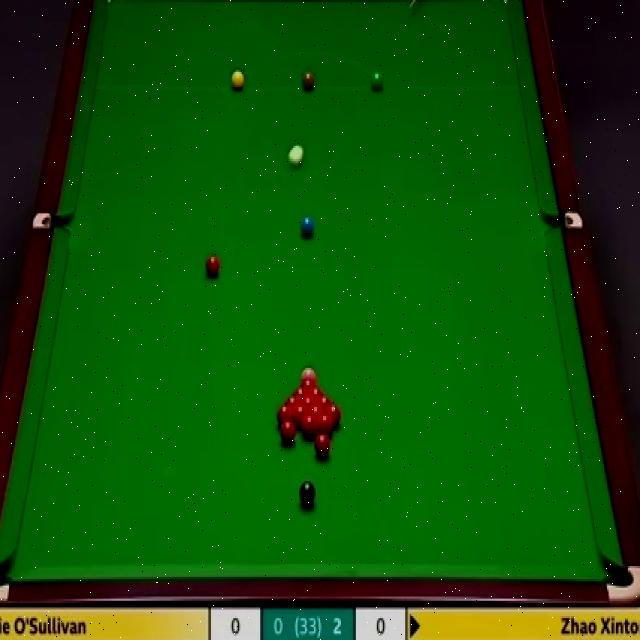black-ball: (300, 481, 314, 505)
blue-ball: (300, 214, 315, 236)
brown-ball: (301, 68, 315, 93)
green-ball: (369, 68, 384, 91)
pink-ball: (300, 366, 319, 381)
red-ball: (315, 433, 330, 458), (204, 256, 220, 278), (319, 413, 333, 438), (318, 395, 332, 419), (282, 420, 296, 444), (326, 402, 341, 424), (294, 405, 308, 426), (302, 416, 316, 437), (277, 406, 292, 425), (310, 406, 322, 427), (285, 396, 300, 406), (301, 398, 318, 405)
white-ball: (288, 144, 304, 166)
yellow-ball: (231, 70, 245, 92)
